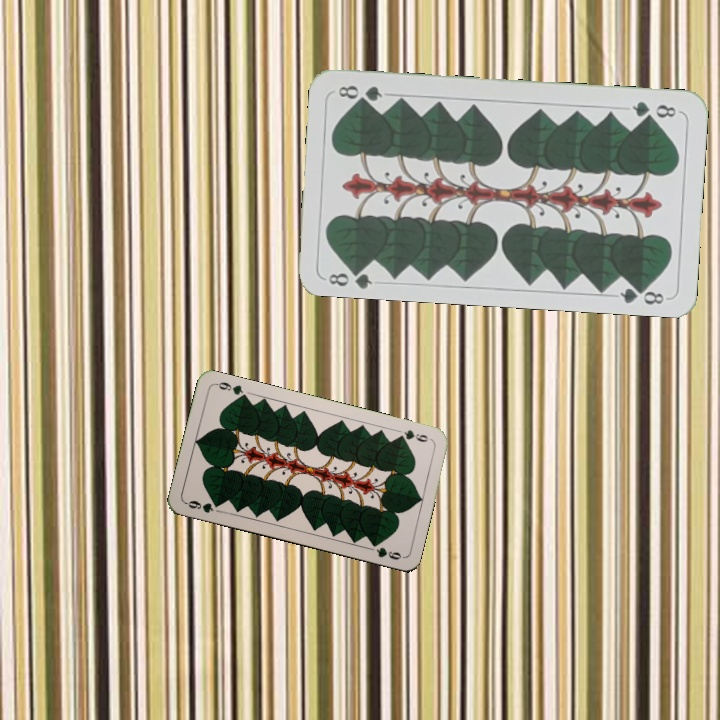G8: (325, 262, 375, 290), (628, 98, 679, 122)
G9: (182, 496, 223, 516), (393, 426, 434, 445)
